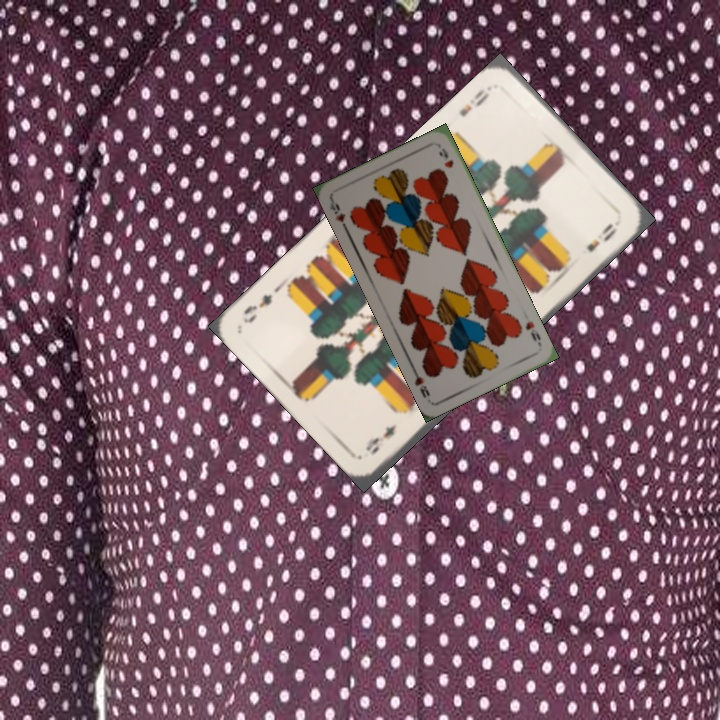E9: (455, 81, 498, 120), (361, 419, 400, 458)
H9: (326, 195, 350, 233), (521, 317, 543, 344)
